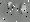person: (8, 4, 13, 15), (23, 5, 27, 15)
